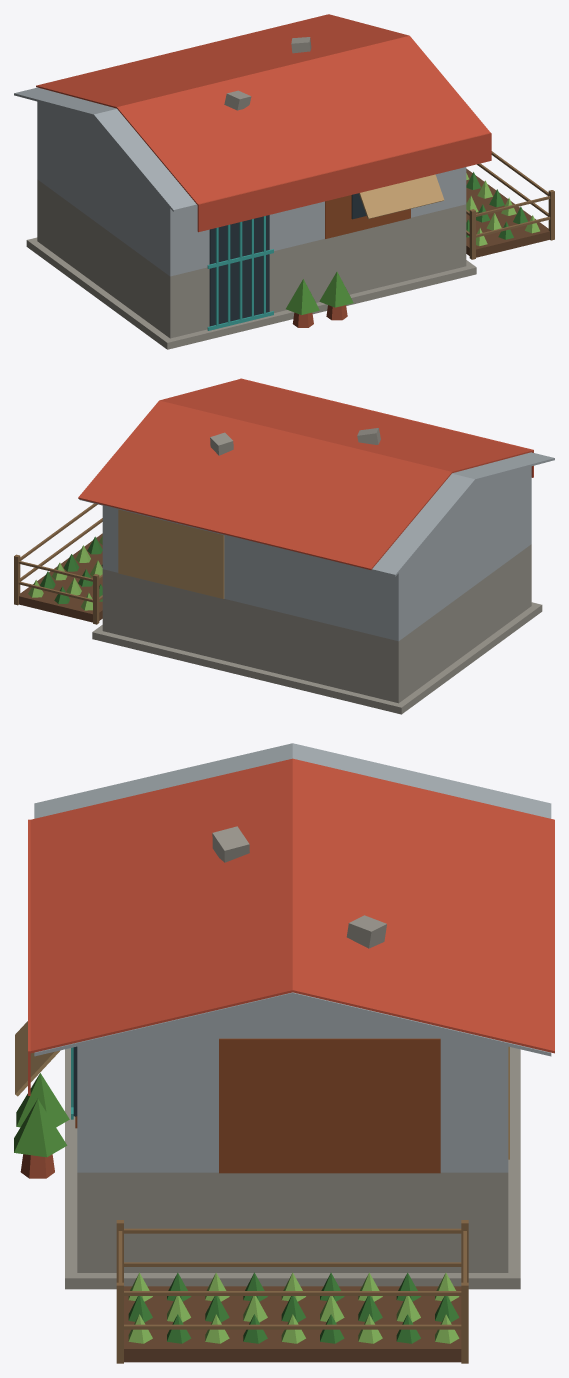
The model's file is BAY_I_TarpShack_O.glb.
The picture shows the model from 3 angles, top to bottom: view 1: azimuth 30°, elevation 25°; view 2: azimuth 150°, elevation 25°; view 3: azimuth 270°, elevation 25°; orthographic projection. The views are drawn at different scales.
Visible parts, largest first — view 1: BAY_I_TarpShack_O; view 2: BAY_I_TarpShack_O; view 3: BAY_I_TarpShack_O.
Part boxes in pixels (x1,y1,x2,y2): BAY_I_TarpShack_O: [14, 14, 554, 349]; BAY_I_TarpShack_O: [14, 378, 554, 714]; BAY_I_TarpShack_O: [14, 743, 554, 1363].
Size of the model in its own units: 6.18 by 2.76 by 4.39.
Materials: 1 (1 with a texture image).
